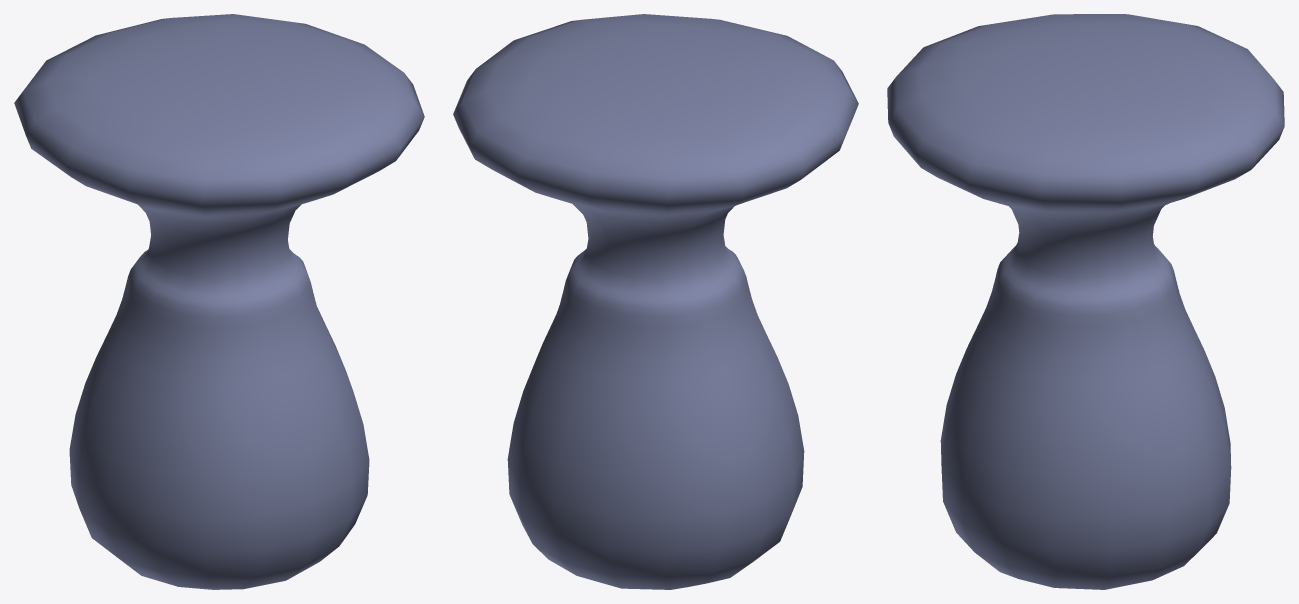
File: minitable.glb
3 renders of one model, left to right at view 1: azimuth 30°, elevation 25°; view 2: azimuth 150°, elevation 25°; view 3: azimuth 270°, elevation 25°, orthographic.
Parts seen in each view (by area): view 1: minitable; view 2: minitable; view 3: minitable.
Boxes of the visible parts, x1,y1,x2,y2 form: minitable: (14, 14, 424, 589); minitable: (453, 14, 858, 589); minitable: (887, 14, 1284, 589).
Size of what is drawn, in the model's own units: 0.6178 by 0.8557 by 0.6178.
